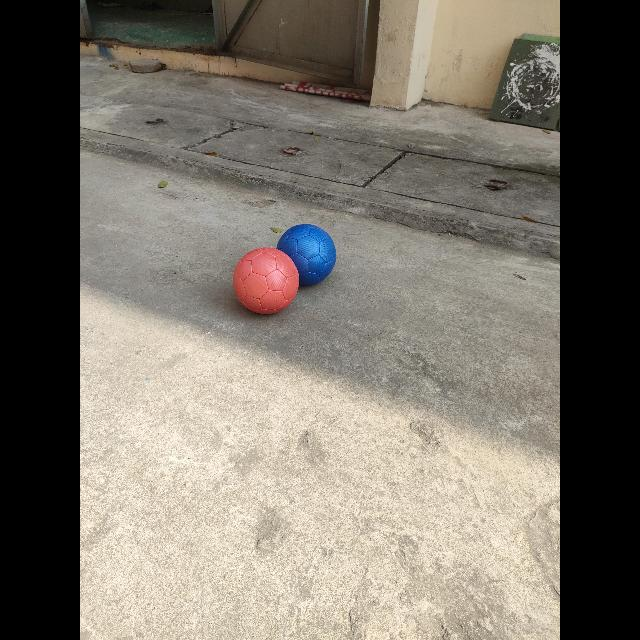B: (278, 224, 336, 285)
R: (234, 248, 299, 314)
